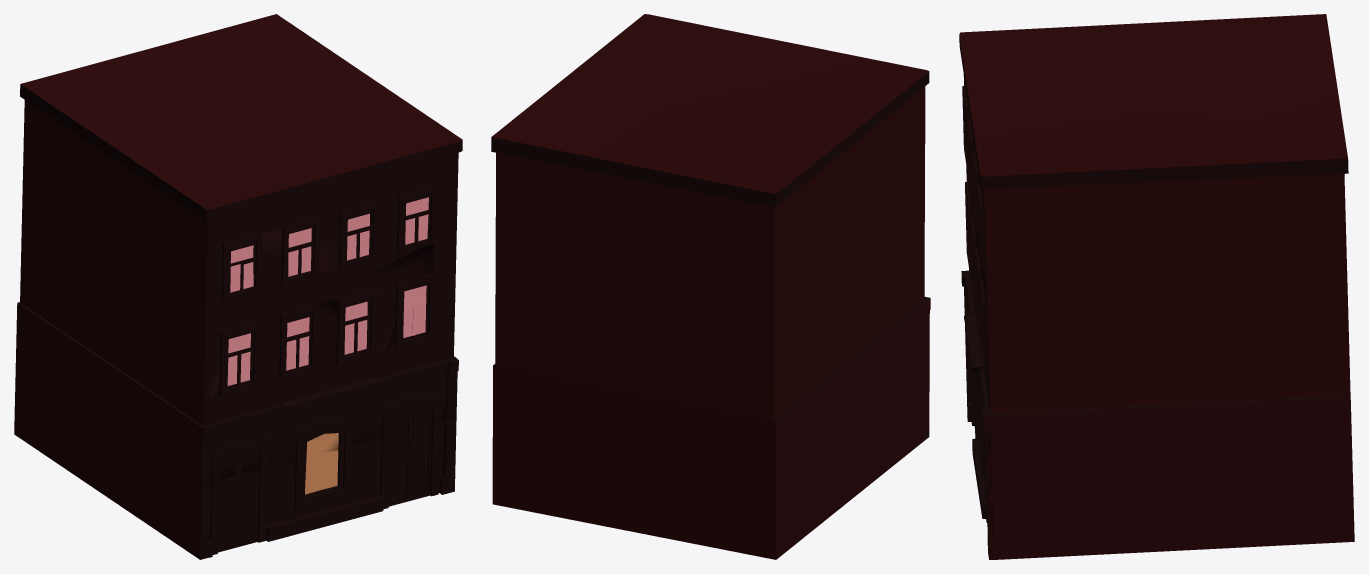
Rendered from edificio2.obj.
3 views of the same model, side by side, from view 1: azimuth 30°, elevation 25°; view 2: azimuth 150°, elevation 25°; view 3: azimuth 270°, elevation 25° (orthographic). The views are drawn at different scales.
Parts seen in each view (by area): view 1: 5; view 2: 5; view 3: 5.
Part boxes in pixels (bbox=[...]): 5: bbox=[14, 14, 462, 559]; 5: bbox=[491, 14, 930, 559]; 5: bbox=[959, 14, 1354, 559].
Size of the model in its own units: 1.72 by 2.07 by 1.87.
